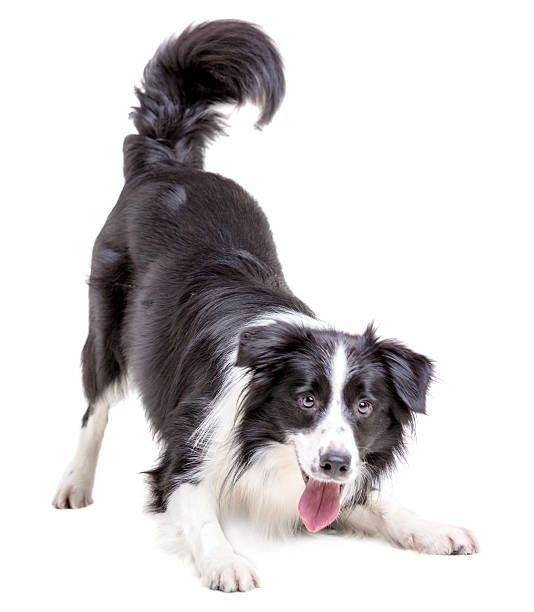adult_dog: (51, 18, 481, 592)
